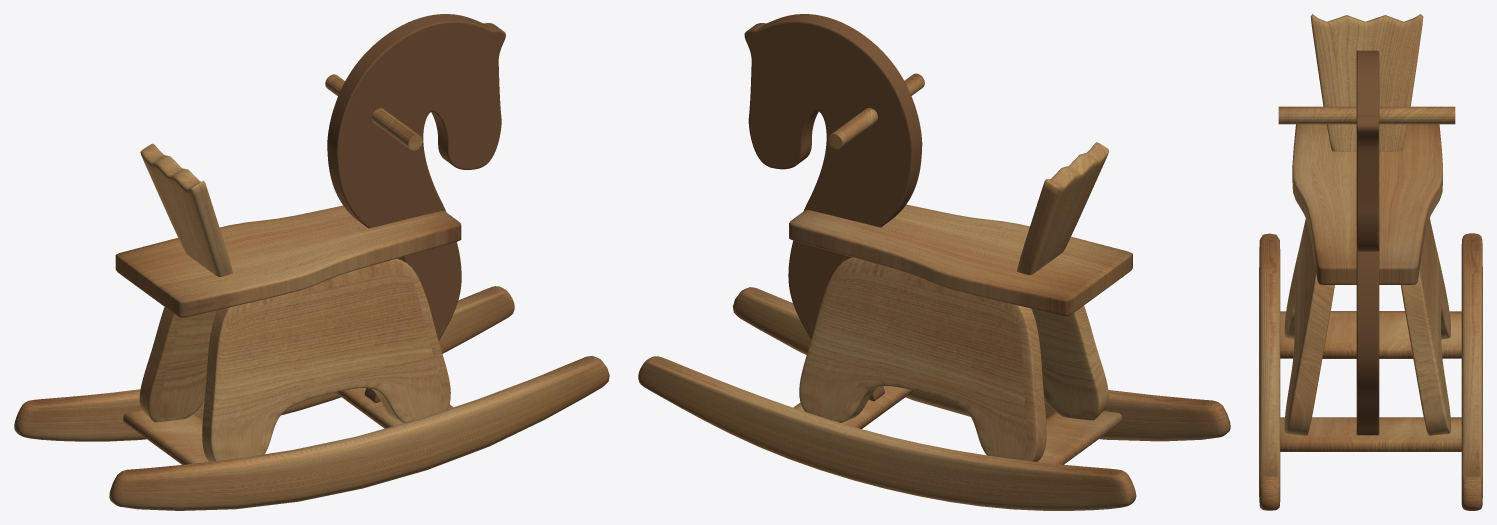
Rendered from rocking_horse.glb.
3 views of the same model, side by side, from view 1: azimuth 30°, elevation 25°; view 2: azimuth 150°, elevation 25°; view 3: azimuth 270°, elevation 25° (orthographic). The views are drawn at different scales.
Parts seen in each view (by area): view 1: Object_5, Object_3, Object_4, Object_2; view 2: Object_5, Object_2, Object_4, Object_3; view 3: Object_5, Object_4, Object_2, Object_3.
Boxes of the visible parts, bbox=[...] form: Object_5: bbox=[14, 74, 609, 510]; Object_3: bbox=[202, 258, 450, 461]; Object_4: bbox=[327, 14, 505, 402]; Object_2: bbox=[139, 307, 217, 422]; Object_5: bbox=[638, 73, 1230, 510]; Object_2: bbox=[799, 257, 1046, 461]; Object_4: bbox=[744, 14, 922, 401]; Object_3: bbox=[1031, 305, 1108, 420]; Object_5: bbox=[1259, 14, 1482, 510]; Object_4: bbox=[1356, 50, 1379, 435]; Object_2: bbox=[1401, 218, 1450, 435]; Object_3: bbox=[1284, 219, 1334, 435].
Size of the model in its own units: 7.61 by 5.95 by 2.79.
2 materials, 2 textured.
